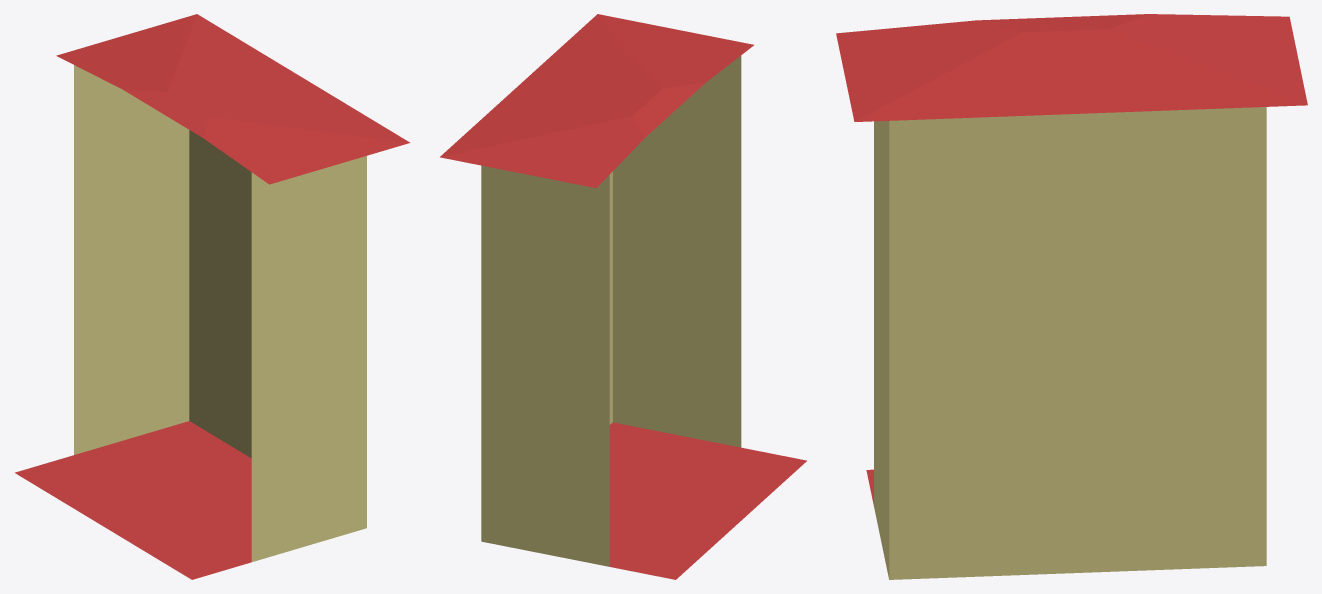
The picture shows the model from 3 angles, left to right: view 1: azimuth 30°, elevation 25°; view 2: azimuth 150°, elevation 25°; view 3: azimuth 270°, elevation 25°; orthographic projection. The views are drawn at different scales.
Bounding box in the file's own units: 6.57 × 9.26 × 10.52.
